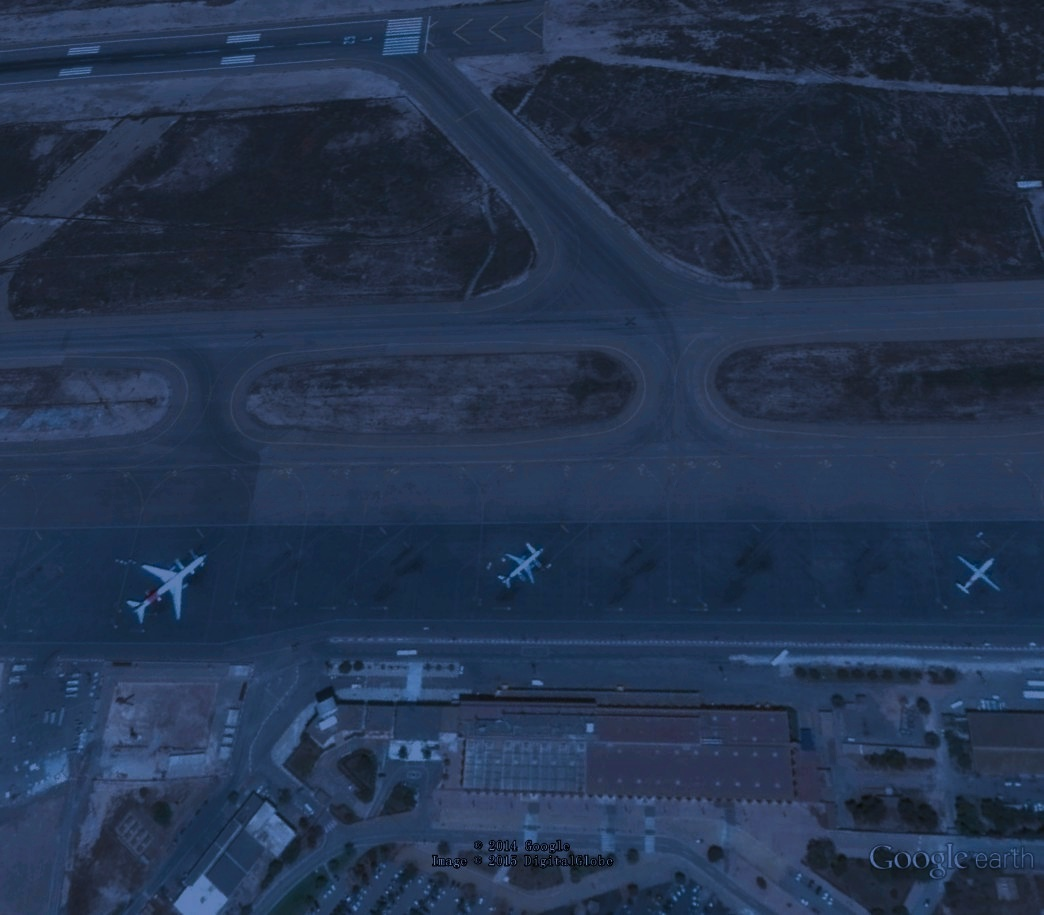aircraft: (121, 549, 216, 634), (492, 544, 549, 595), (954, 549, 1008, 601)
